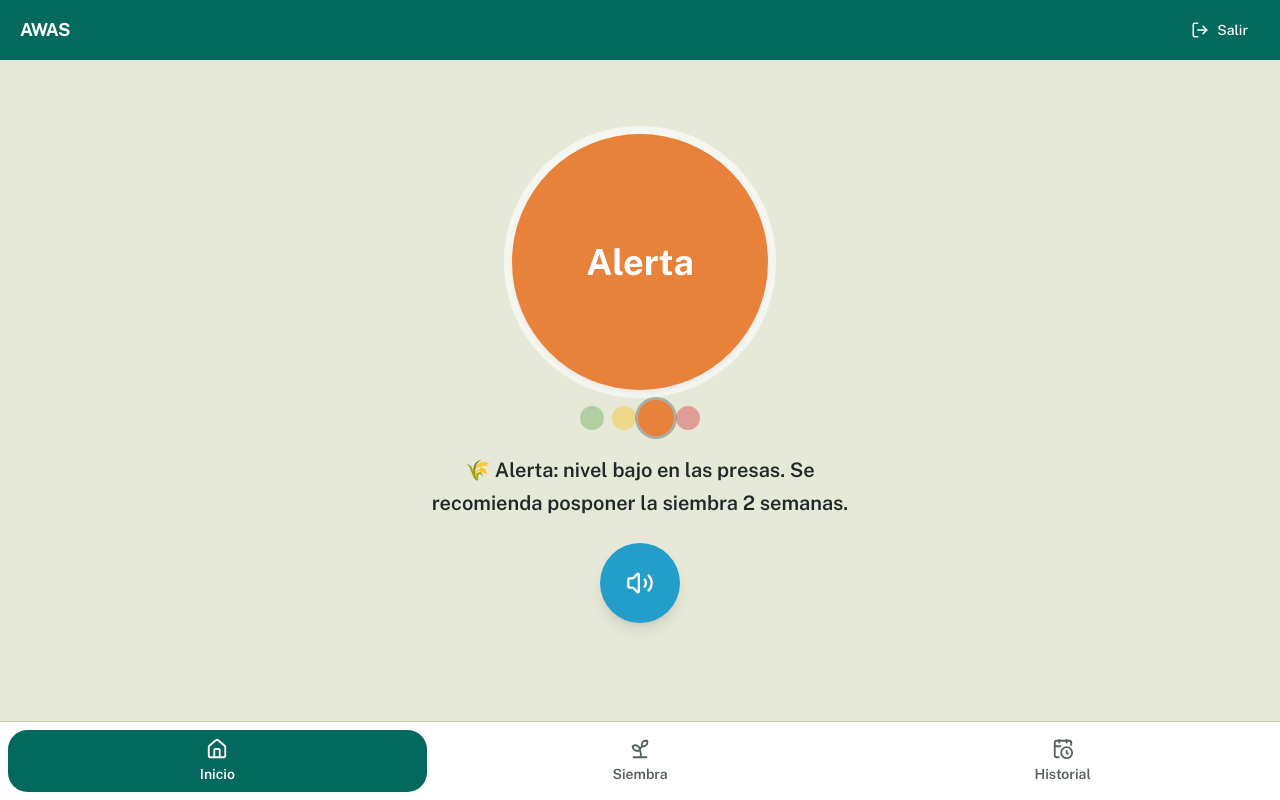
Test: AgricultorDashboard › Siembra: muestra el cultivo priorizado, la acción y la ventana de siembra reales
Expected: the text "🌾 Alerta: nivel bajo en las presas. Se recomienda posponer la siembra 2 semanas." is shown, [432,458,848,514]
Click the button "Siembra".
click(640, 761)  # box [431,730,849,792]
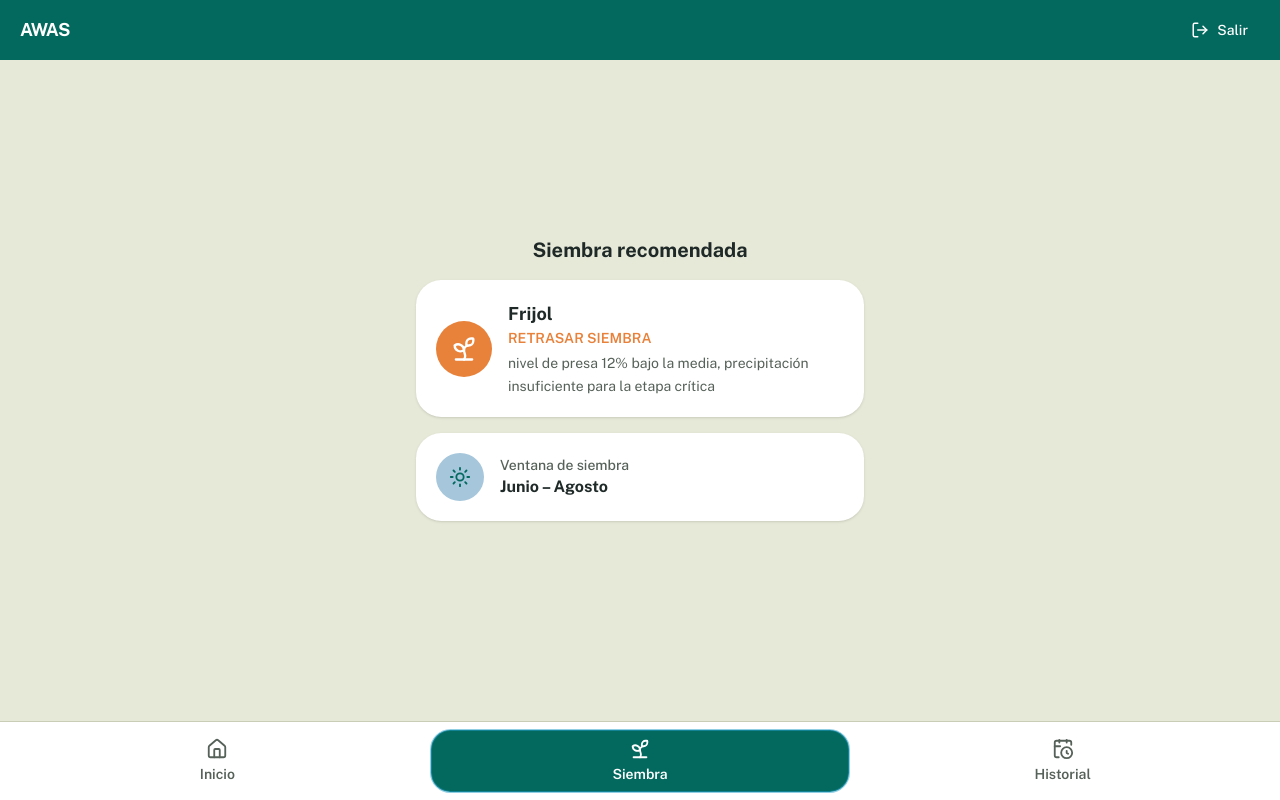
Expected: the text "Frijol" is shown, [508,303,553,324]
Expected: the text "Retrasar siembra" is shown, [508,330,652,346]
Expected: the text "Junio – Agosto" is shown, [500,477,608,496]
